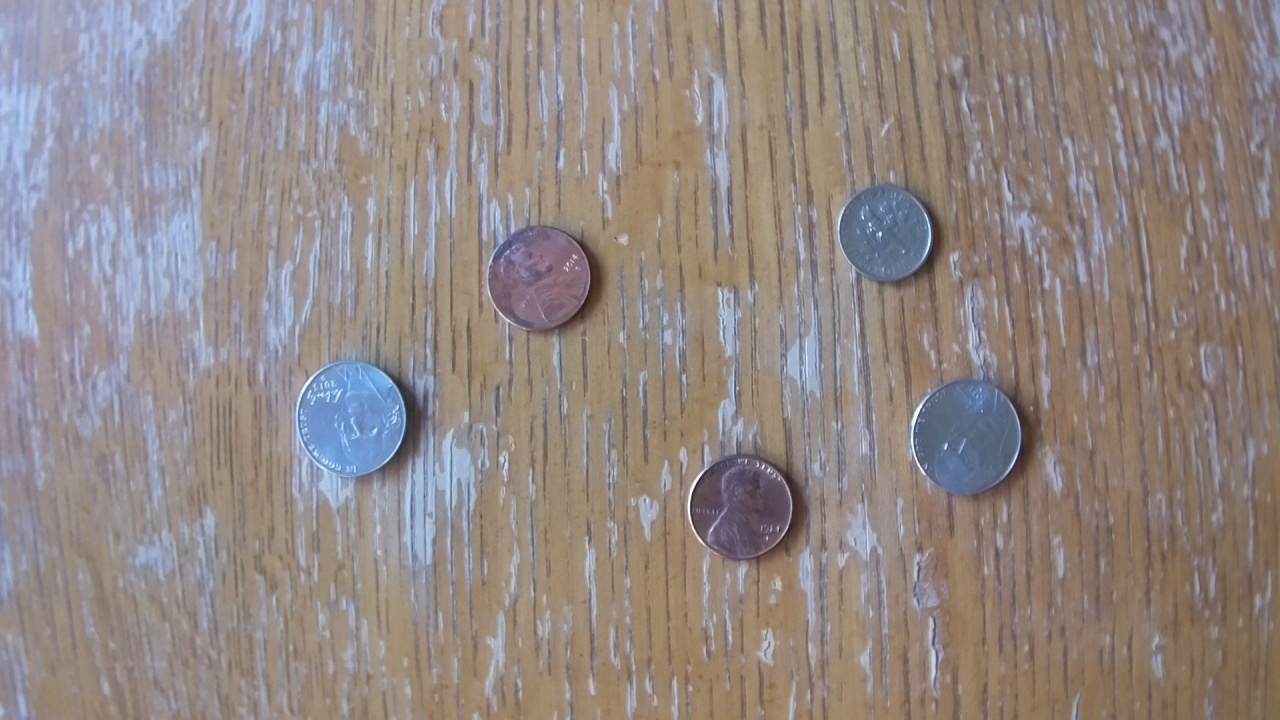dime: (839, 184, 934, 284)
nickel: (296, 356, 411, 480), (910, 378, 1024, 496)
penny: (487, 223, 592, 335), (690, 455, 794, 561)
